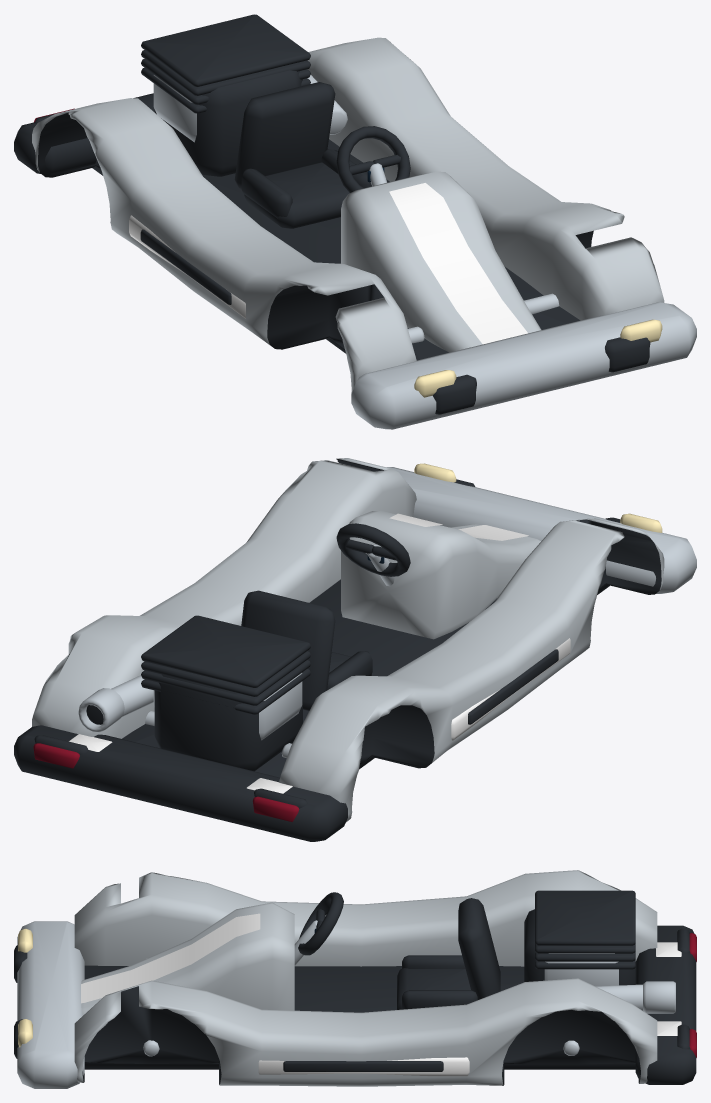
File: auto-kart.glb
3 renders of one model, top to bottom at view 1: azimuth 30°, elevation 25°; view 2: azimuth 150°, elevation 25°; view 3: azimuth 270°, elevation 25°, orthographic. The views are drawn at different scales.
Visible parts, largest first — view 1: auto-kart; view 2: auto-kart; view 3: auto-kart.
Part boxes in pixels (bbox=[...]): auto-kart: bbox=[14, 14, 696, 429]; auto-kart: bbox=[14, 458, 696, 841]; auto-kart: bbox=[14, 870, 696, 1088].
Size of the model in its own units: 1.99 by 0.8699 by 3.97.
